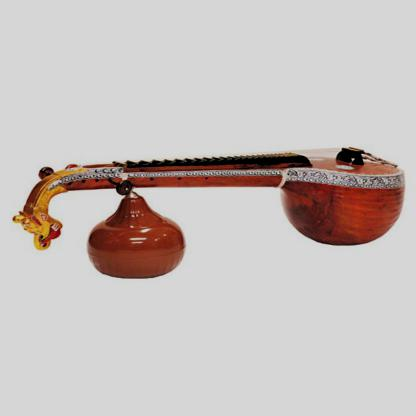Veena: (6, 136, 409, 304)
